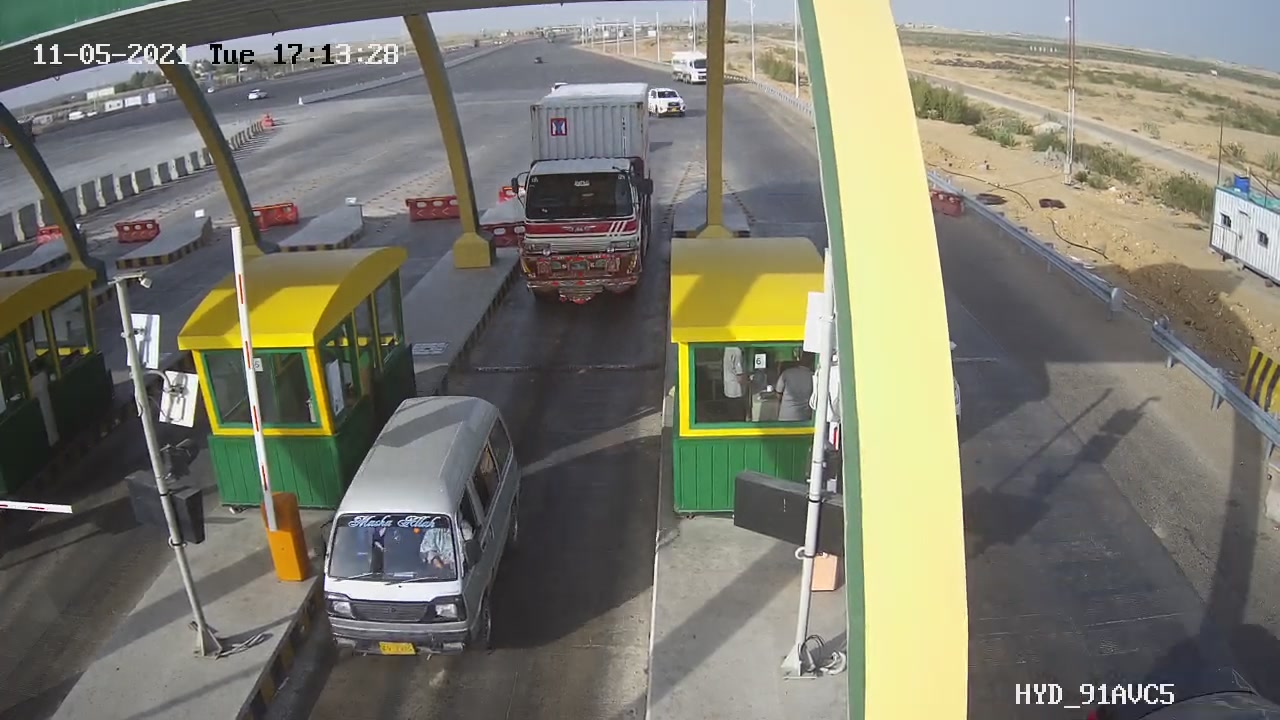F6: (495, 72, 678, 318)
